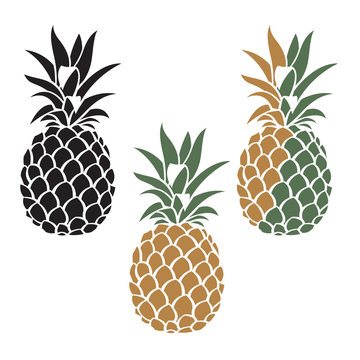Pineapple: (127, 129, 231, 333), (238, 20, 334, 236), (20, 25, 119, 234)
